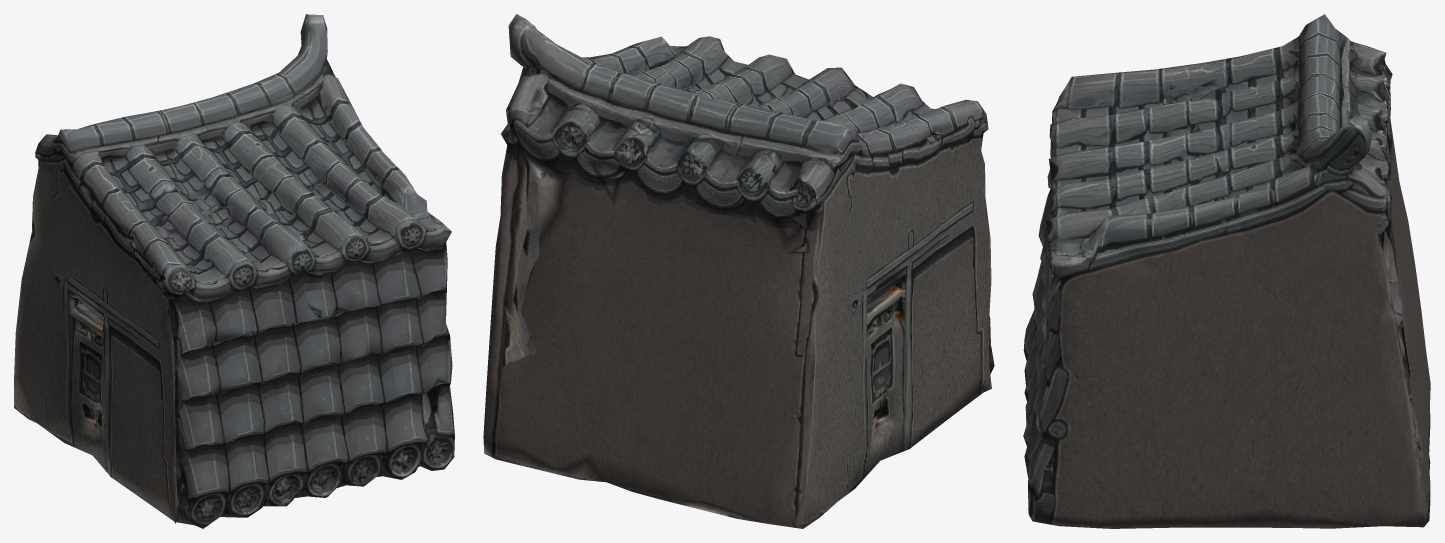
The model's file is 경복궁_모서리조각.glb.
3 renders of one model, left to right at view 1: azimuth 30°, elevation 25°; view 2: azimuth 150°, elevation 25°; view 3: azimuth 270°, elevation 25°, orthographic. The views are drawn at different scales.
Visible parts, largest first — view 1: texture_mapping; view 2: texture_mapping; view 3: texture_mapping.
Part boxes in pixels (x1,y1,x2,y2): texture_mapping: [14, 14, 454, 528]; texture_mapping: [483, 14, 994, 528]; texture_mapping: [1023, 14, 1430, 528].
Bounding box in the file's own units: 0.8439 × 1 × 0.9028.
Materials: 1 (1 with a texture image).
